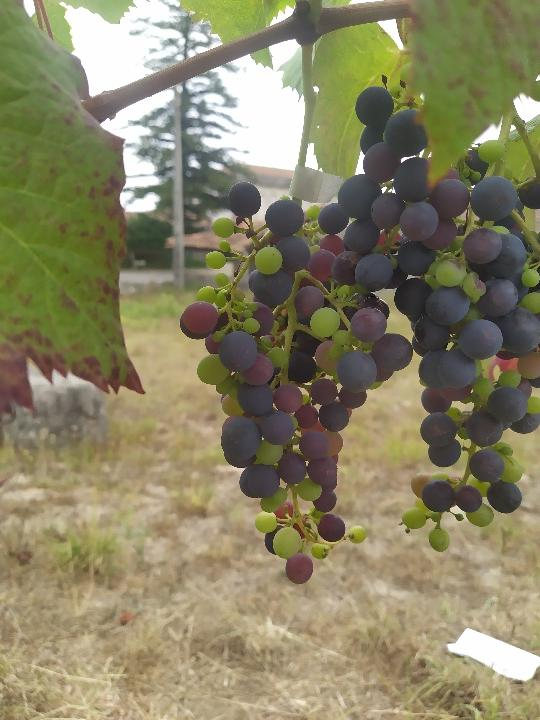grape: (321, 74, 540, 552), (176, 183, 416, 588)
